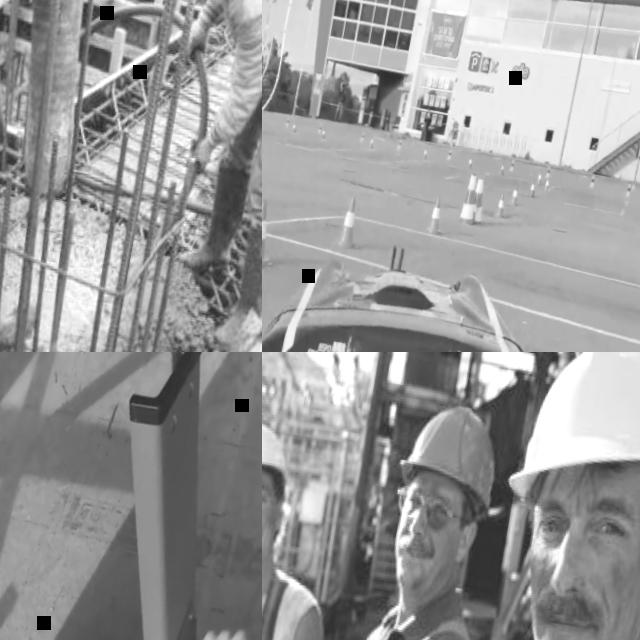Hardhat: (502, 352, 640, 512), (391, 394, 509, 522), (262, 407, 300, 502)
NO-Mask: (513, 578, 640, 640), (383, 530, 455, 596), (262, 514, 276, 571)
Person: (262, 383, 526, 640), (430, 352, 640, 640), (108, 0, 262, 352), (0, 0, 123, 352), (262, 401, 369, 640)
Safety Cone: (331, 192, 363, 251), (262, 194, 280, 271), (457, 172, 480, 228), (468, 175, 488, 229), (423, 195, 445, 239), (466, 192, 482, 228), (492, 190, 507, 219), (507, 182, 521, 207), (526, 178, 537, 200), (623, 183, 632, 200), (542, 177, 551, 193), (535, 171, 544, 187), (420, 147, 429, 162), (589, 174, 597, 189), (544, 164, 552, 178), (507, 159, 515, 173), (498, 163, 505, 178), (445, 147, 452, 161), (367, 137, 374, 150), (396, 139, 403, 152), (284, 117, 290, 130), (466, 158, 472, 170), (358, 132, 364, 144), (316, 124, 322, 135), (320, 127, 325, 139), (291, 122, 296, 133)
vehicle: (262, 184, 640, 352)
